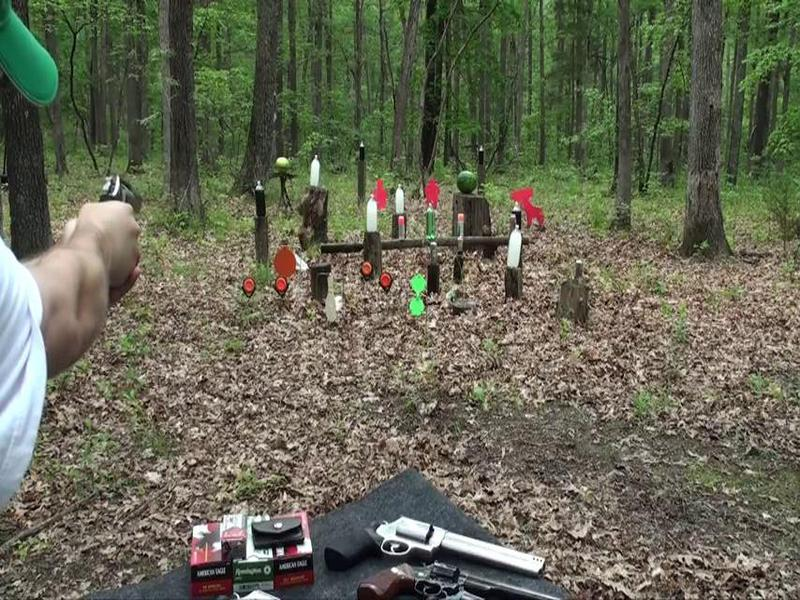Revolver: (88, 175, 156, 247)
